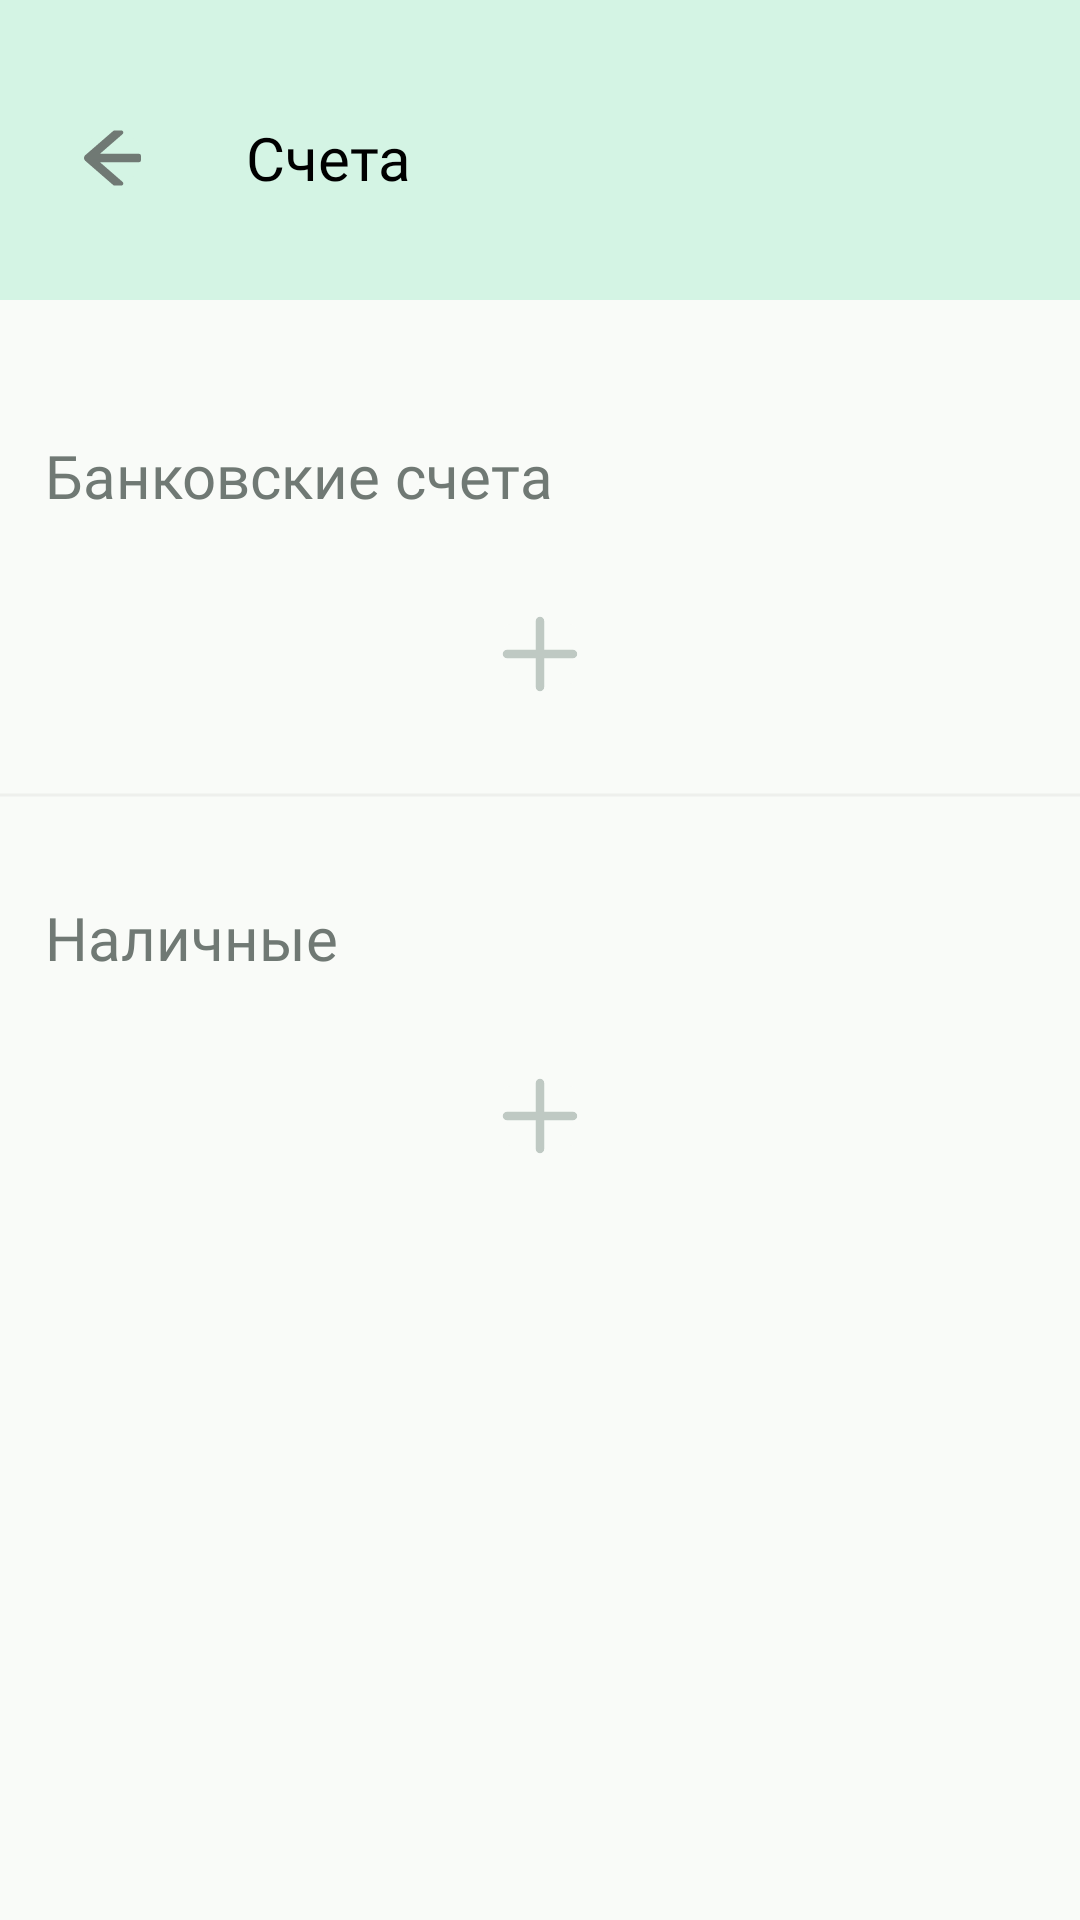

Screen size 1080 × 1920. Icon name, then its box in pixels as (x1, y1, x2, y2):
add: (503, 617, 577, 691), (503, 1079, 577, 1153)
arrow left: (84, 130, 141, 186)
